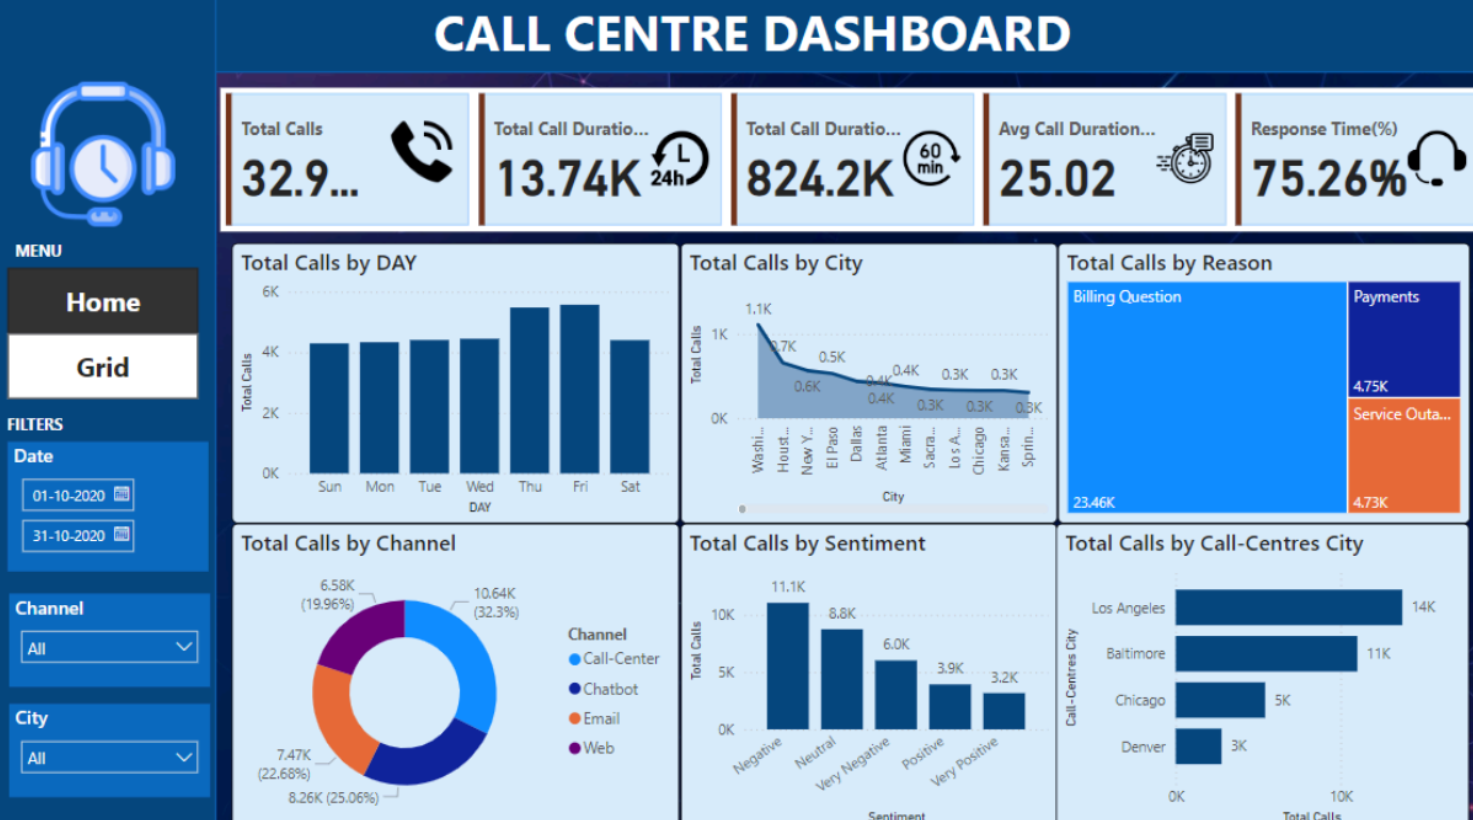

The page's visual inventory and layout, read from the dashboard file:
{"tool":"powerbi","page":{"name":"Home","canvas":[1280,720],"ordinal":0},"visuals":[{"type":"shape","box":[9.6,0,1270.7,70],"z":0},{"type":"shape","box":[0,0,189.4,720.2],"z":1000},{"type":"cardVisual","fields":{"Data":["Call Center_Call Center.Total Calls","Call Center_Call Center.Total Call Duration (Hrs)","Call Center_Call Center.Total Call Duration (mins)","Call Center_Call Center.Avg Call Duration (mins)","Call Center_Call Center.Response Time(%)"]},"box":[193.2,83.2,1087.1,123.5],"z":2000},{"type":"textbox","box":[371.9,0,636.7,72.7],"z":3000},{"type":"columnChart","fields":{"Category":["DATE TABLE.DAY"],"Y":["Call Center_Call Center.Total Calls"]},"box":[203,215.2,385,240],"z":4000},{"type":"treemap","fields":{"Values":["Call Center_Call Center.Total Calls"],"Group":["Call Center_Call Center.Reason"]},"box":[912.2,215.2,354.6,239.7],"z":5000},{"type":"areaChart","fields":{"Category":["Call Center_Call Center.City"],"Y":["Call Center_Call Center.Total Calls"]},"box":[588.2,215.2,324.1,239.7],"z":6000},{"type":"donutChart","fields":{"Category":["Call Center_Call Center.Channel"],"Y":["Call Center_Call Center.Total Calls"]},"box":[203,455,385,265],"z":7000},{"type":"columnChart","fields":{"Category":["Call Center_Call Center.Sentiment"],"Y":["Call Center_Call Center.Total Calls"]},"box":[588,455,324,265],"z":8000},{"type":"barChart","fields":{"Category":["Call Center_Call Center.Call-Centres City"],"Y":["Call Center_Call Center.Total Calls"]},"box":[912,455,355,265],"z":9000},{"type":"slicer","title":"Date","fields":{"Values":["DATE TABLE.Date"]},"box":[9.7,386.1,172.5,111],"z":10000},{"type":"slicer","title":"Channel","fields":{"Values":["Call Center_Call Center.Channel"]},"box":[12.1,516.4,172.5,79.6],"z":11000},{"type":"slicer","title":"City","fields":{"Values":["Call Center_Call Center.City"]},"box":[10.9,610.5,172.5,79.6],"z":12000},{"type":"image","box":[21.7,72.4,142.4,133.9],"z":13000},{"type":"pageNavigator","box":[9.7,237.7,164.1,112.2],"z":14000},{"type":"textbox","box":[12.1,208.7,124.3,29],"z":15000},{"type":"textbox","box":[3.6,357.1,124.3,29],"z":16000}]}

Visuals, with their boxes in screenshot pixels (x1, y1, x2, y2), scaled from the page's 1280x720 canvas onto the 1473x820 screenshot:
shape: <region>11, 0, 1472, 80</region>
shape: <region>0, 0, 218, 819</region>
cardVisual - Call Center_Call Center.Total Calls x Call Center_Call Center.Total Call Duration (Hrs): <region>222, 95, 1472, 235</region>
textbox: <region>428, 0, 1161, 83</region>
columnChart - DATE TABLE.DAY x Call Center_Call Center.Total Calls: <region>234, 245, 677, 518</region>
treemap - Call Center_Call Center.Total Calls x Call Center_Call Center.Reason: <region>1050, 245, 1458, 518</region>
areaChart - Call Center_Call Center.City x Call Center_Call Center.Total Calls: <region>677, 245, 1050, 518</region>
donutChart - Call Center_Call Center.Channel x Call Center_Call Center.Total Calls: <region>234, 518, 677, 819</region>
columnChart - Call Center_Call Center.Sentiment x Call Center_Call Center.Total Calls: <region>677, 518, 1050, 819</region>
barChart - Call Center_Call Center.Call-Centres City x Call Center_Call Center.Total Calls: <region>1050, 518, 1458, 819</region>
"Date" slicer: <region>11, 440, 210, 566</region>
"Channel" slicer: <region>14, 588, 212, 679</region>
"City" slicer: <region>13, 695, 211, 786</region>
image: <region>25, 82, 189, 235</region>
pageNavigator: <region>11, 271, 200, 398</region>
textbox: <region>14, 238, 157, 271</region>
textbox: <region>4, 407, 147, 440</region>
